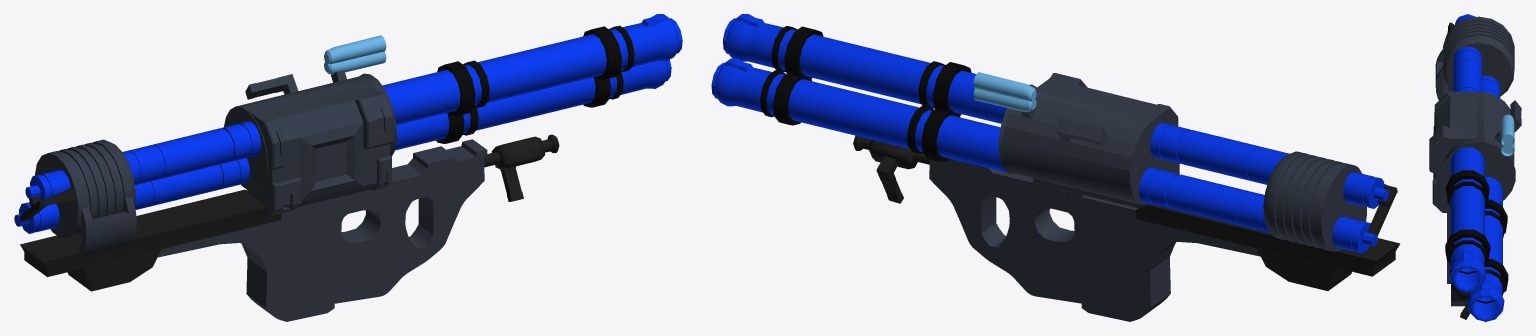
The model's file is lanzamisiles.obj.
The picture shows the model from 3 angles, left to right: view 1: azimuth 30°, elevation 25°; view 2: azimuth 150°, elevation 25°; view 3: azimuth 270°, elevation 25°; orthographic projection. The views are drawn at different scales.
Visible parts, largest first — view 1: Box001; view 2: Box001; view 3: Box001.
Boxes of the visible parts, x1,y1,x2,y2 form: Box001: (14,14,682,321); Box001: (711,14,1400,321); Box001: (1429,14,1521,321).
Bounding box in the file's own units: 2264 × 763 × 344.
